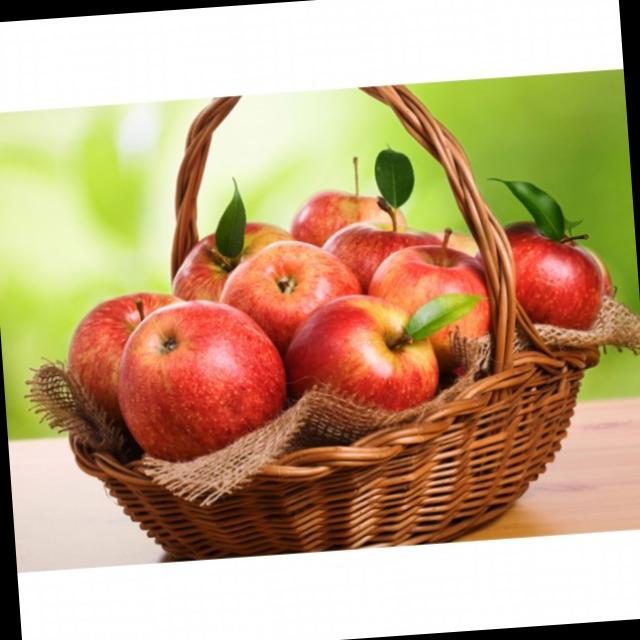apple: (110, 288, 296, 468), (276, 284, 452, 446), (54, 289, 215, 438), (470, 216, 613, 372)
